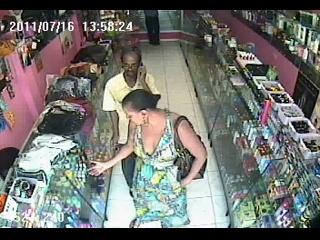Normal: (88, 89, 208, 227), (101, 46, 160, 150), (144, 10, 160, 46)
